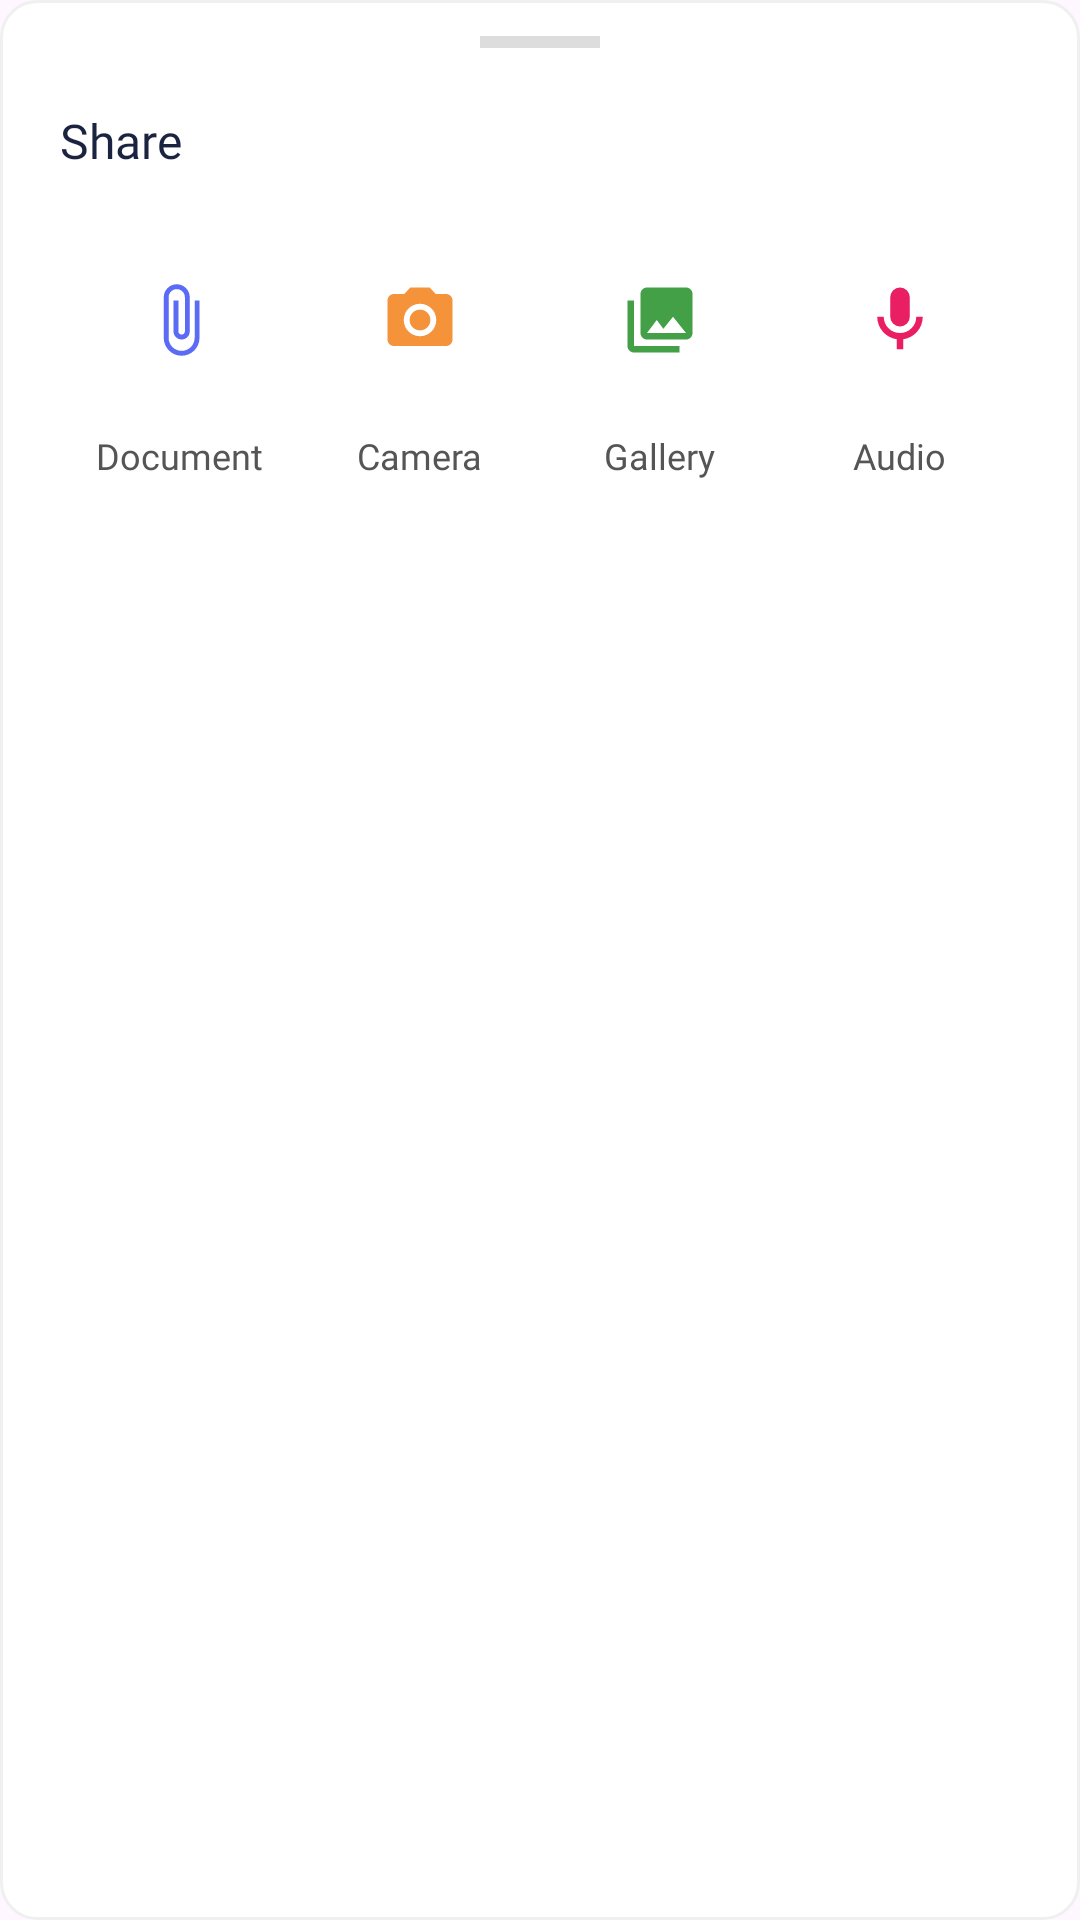

Icons on this 1080px×1920px Android screen, each with its box as (x1, y1, x2, y2):
attachment: (163, 284, 200, 356)
mic: (877, 287, 923, 350)
